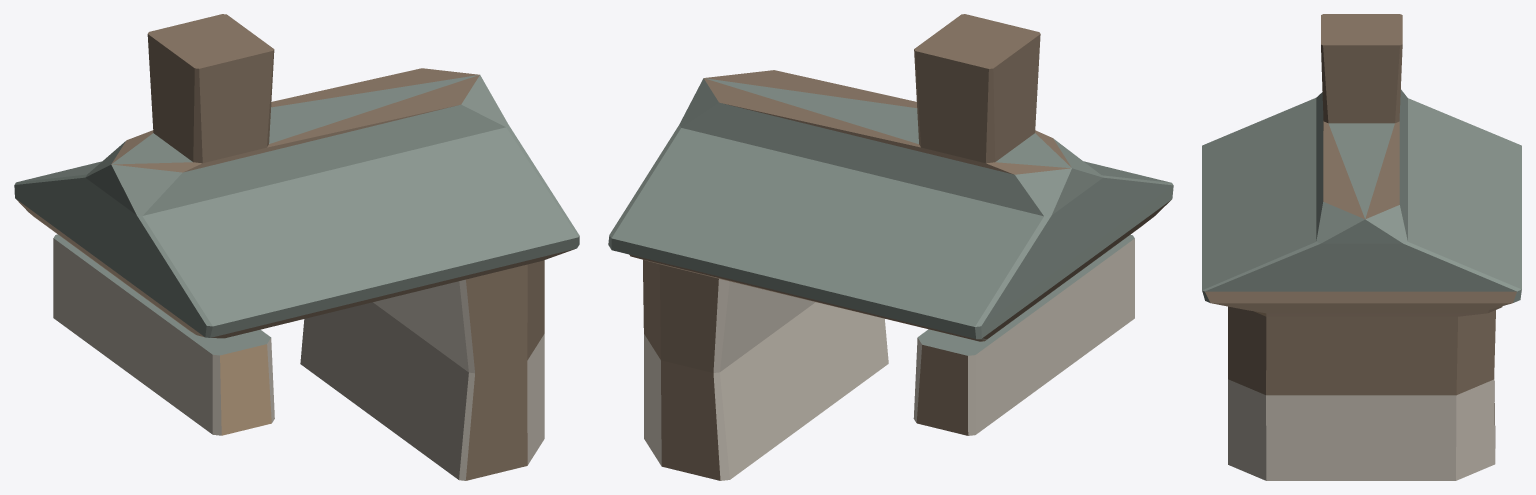
The model's file is loin.glb.
3 renders of one model, left to right at view 1: azimuth 30°, elevation 25°; view 2: azimuth 150°, elevation 25°; view 3: azimuth 270°, elevation 25°, orthographic. The views are drawn at different scales.
Parts seen in each view (by area): view 1: loin; view 2: loin; view 3: loin.
Boxes of the visible parts, x1,y1,x2,y2 form: loin: (14, 14, 579, 480); loin: (608, 14, 1173, 480); loin: (1202, 14, 1521, 480).
Size of the model in its own units: 0.8713 by 0.9333 by 0.7905.
